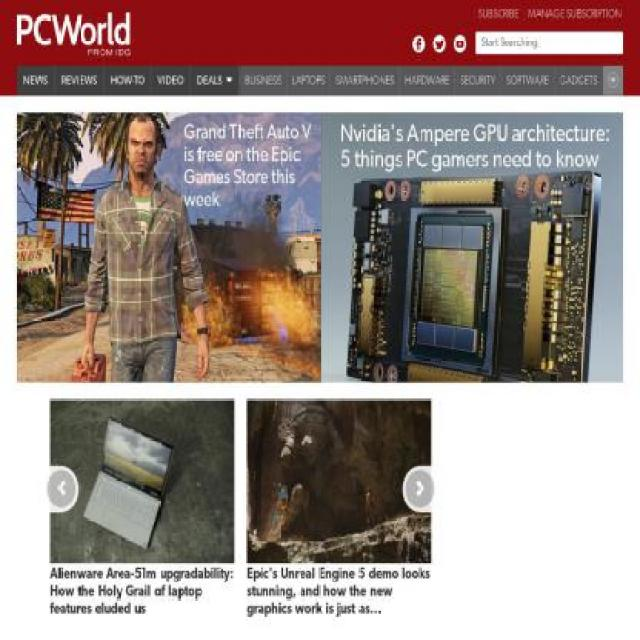button: (240, 382, 438, 620), (44, 382, 241, 620), (438, 382, 634, 620), (340, 121, 612, 174), (184, 121, 319, 212), (0, 382, 45, 620), (16, 13, 147, 58), (331, 66, 398, 96), (402, 465, 438, 513), (399, 66, 455, 96), (44, 465, 79, 513), (501, 66, 554, 96), (554, 66, 603, 96), (56, 66, 104, 96), (104, 66, 151, 96), (192, 66, 239, 96), (240, 66, 286, 96), (455, 66, 500, 96), (287, 66, 330, 96), (17, 66, 55, 96), (152, 66, 190, 96), (635, 382, 639, 621), (412, 31, 431, 58), (433, 31, 452, 58), (454, 31, 472, 58)
field: (482, 36, 600, 50)
